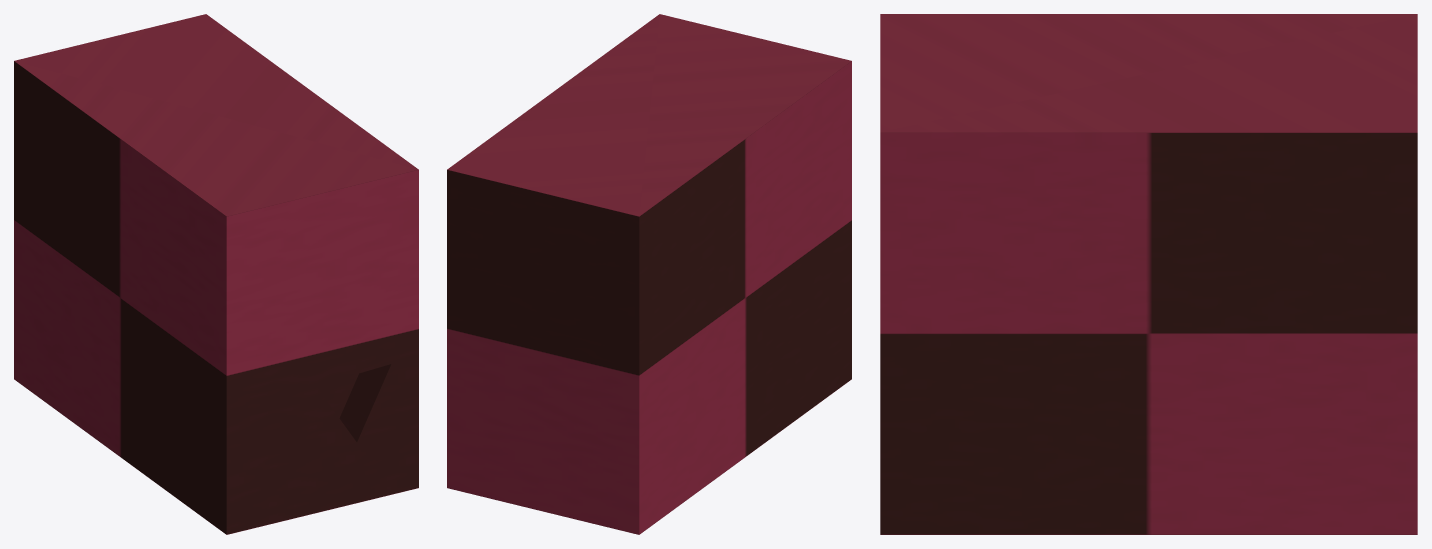
3 renders of one model, left to right at view 1: azimuth 30°, elevation 25°; view 2: azimuth 150°, elevation 25°; view 3: azimuth 270°, elevation 25°, orthographic. The views are drawn at different scales.
Parts seen in each view (by area): view 1: geometry_0; view 2: geometry_0; view 3: geometry_0.
Part boxes in pixels (<box>): geometry_0: <box>14,14,418,534</box>; geometry_0: <box>447,14,851,534</box>; geometry_0: <box>880,14,1417,534</box>.
Bounding box in the file's own units: 0.5135 × 0.8131 × 0.9842.
1 material, 1 textured.
